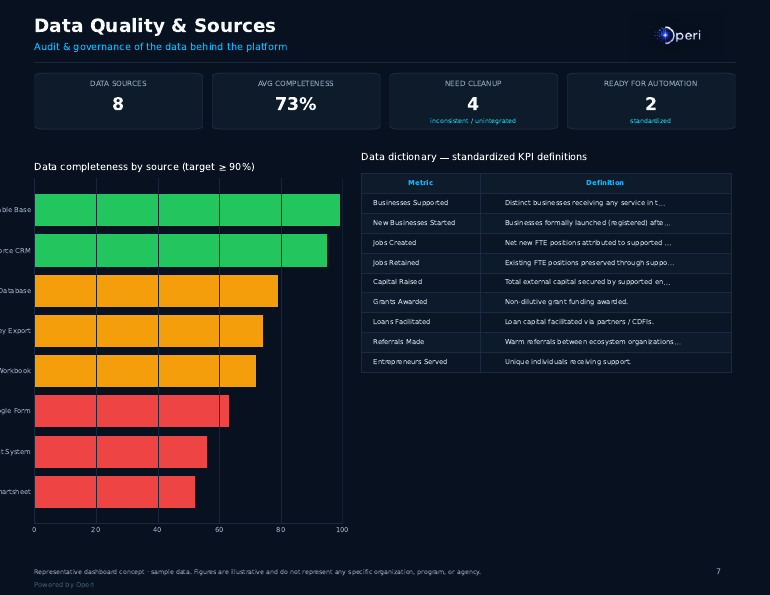

Layout of this report page (visuals, bound fields, positions):
{"tool":"powerbi","page":{"name":"Data Quality & Sources","canvas":[1280,720],"ordinal":6},"visuals":[{"type":"pageNavigator","box":[0,0,1000,50],"z":0},{"type":"pageNavigator","box":[0,10,1280,50],"z":1}]}

Visuals, with their boxes on the page's 1280x720 design canvas (x1, y1, x2, y2). These are canvas units, not pixel positions in the 770x595 screenshot, which may show the page scaled, cropped or inside an application window:
pageNavigator: left=0, top=0, right=1000, bottom=50
pageNavigator: left=0, top=10, right=1280, bottom=60
